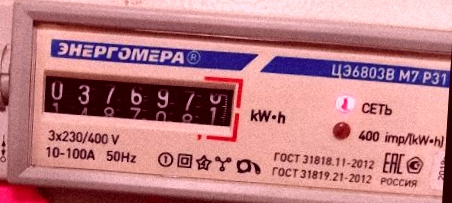0: (49, 78, 64, 101)
1: (205, 104, 219, 125)
3: (75, 82, 92, 105)
6: (127, 82, 144, 105)
7: (100, 81, 117, 105), (181, 88, 197, 112)
9: (153, 85, 170, 109)
screen: (31, 60, 246, 146)
